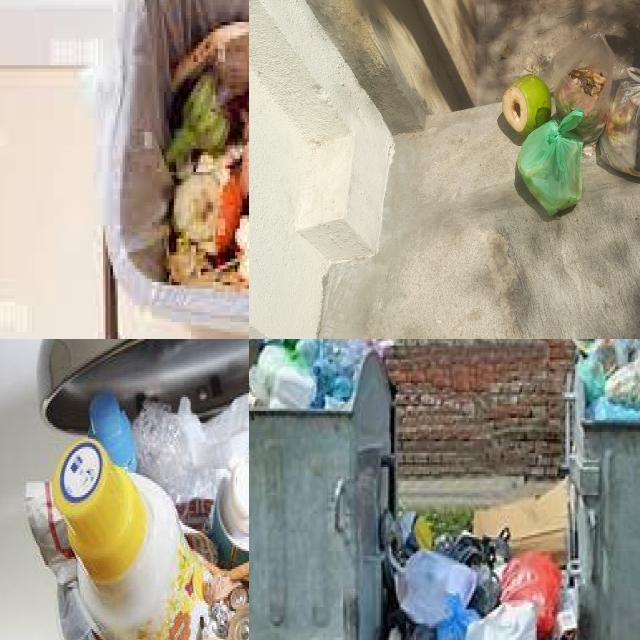Garbage: (26, 394, 249, 640), (484, 22, 640, 242), (169, 23, 249, 286), (384, 551, 535, 640), (249, 339, 394, 410), (571, 339, 640, 422)
Metal: (228, 604, 249, 640)
Plastic_Bag: (132, 395, 249, 506), (517, 108, 584, 216), (554, 33, 615, 143), (394, 550, 477, 626), (570, 339, 640, 422), (500, 552, 562, 640), (600, 68, 640, 177), (466, 603, 537, 640), (435, 594, 479, 640)
Plastic_Container: (52, 439, 207, 640), (212, 460, 249, 568), (90, 392, 136, 470)
Plastic_bottle: (265, 339, 368, 408)
